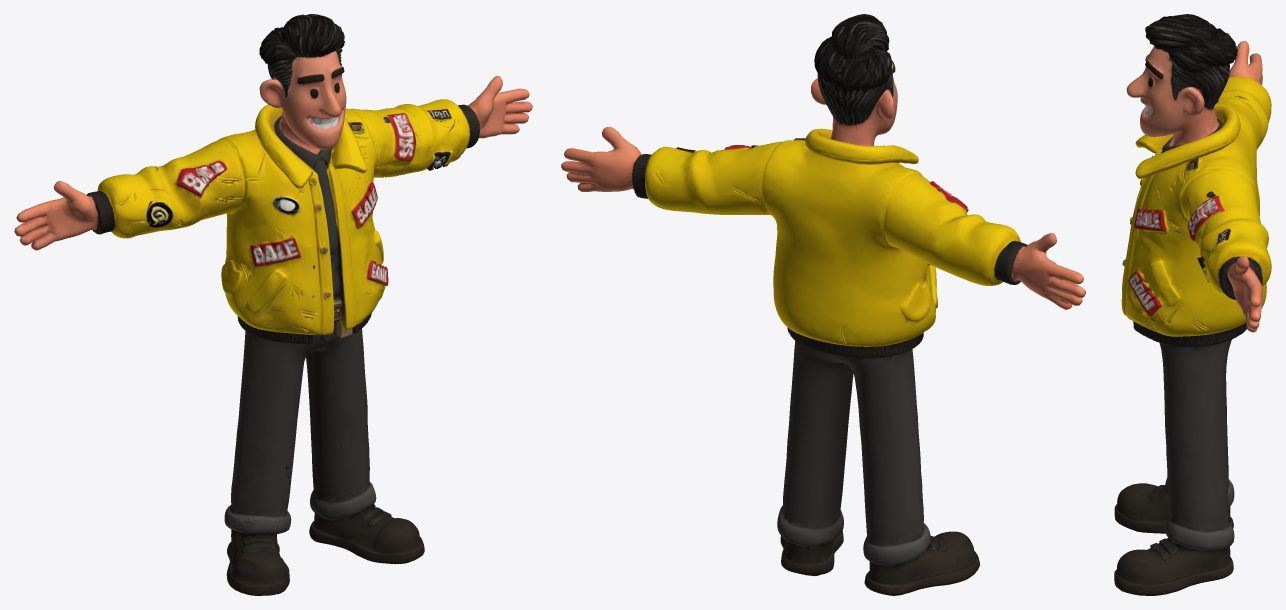
The model's file is clearance_carl.glb.
3 views of the same model, side by side, from view 1: azimuth 30°, elevation 25°; view 2: azimuth 150°, elevation 25°; view 3: azimuth 270°, elevation 25° (orthographic).
Parts seen in each view (by area): view 1: clearance_carl; view 2: clearance_carl; view 3: clearance_carl.
Part boxes in pixels (x1=…): clearance_carl: x1=14, y1=14, x2=532, y2=595; clearance_carl: x1=561, y1=14, x2=1085, y2=595; clearance_carl: x1=1114, y1=14, x2=1271, y2=595.
Size of the model in its own units: 1.76 by 1.75 by 0.463.
1 material, 1 textured.
